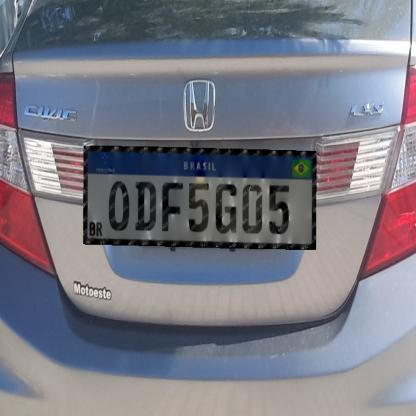PlacaM: (83, 146, 317, 250)
